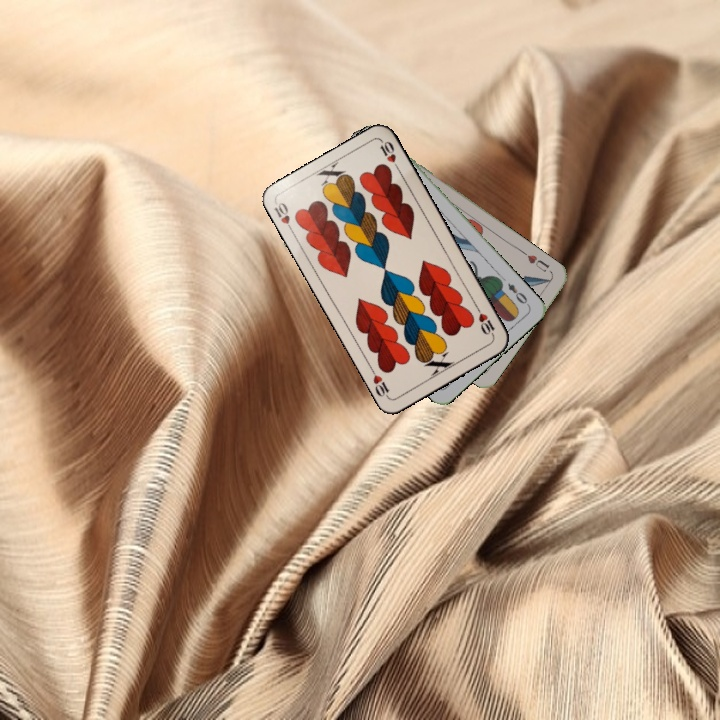EO: (503, 279, 532, 308)
H10: (270, 198, 297, 236), (472, 302, 497, 339)
HU: (523, 251, 552, 275)
